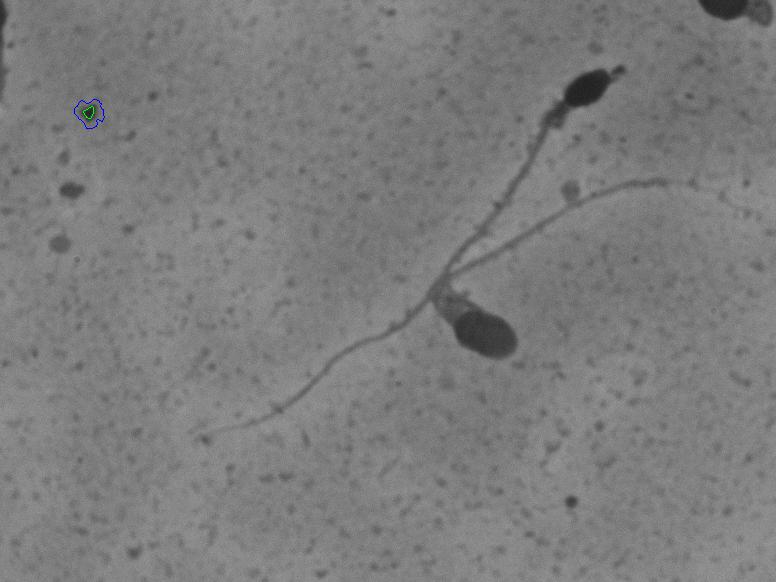Abnormal: (409, 204, 701, 397), (450, 15, 683, 198)
